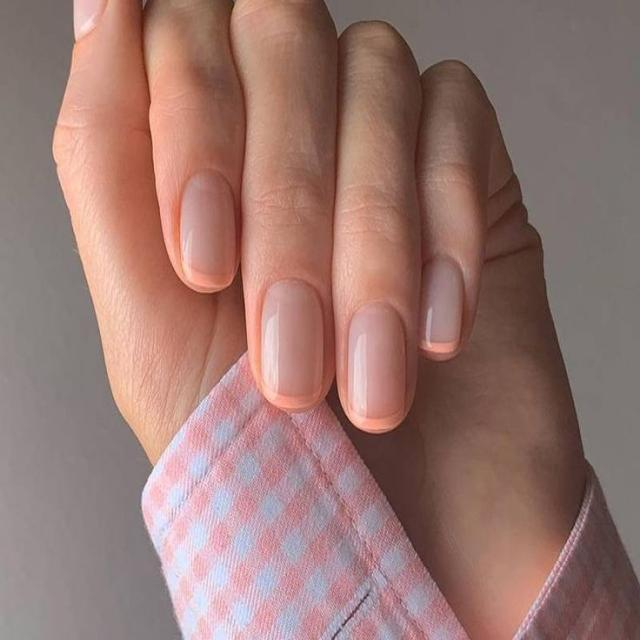Fingernail: (261, 280, 323, 398), (347, 302, 405, 418), (180, 173, 236, 283), (423, 257, 463, 345)
